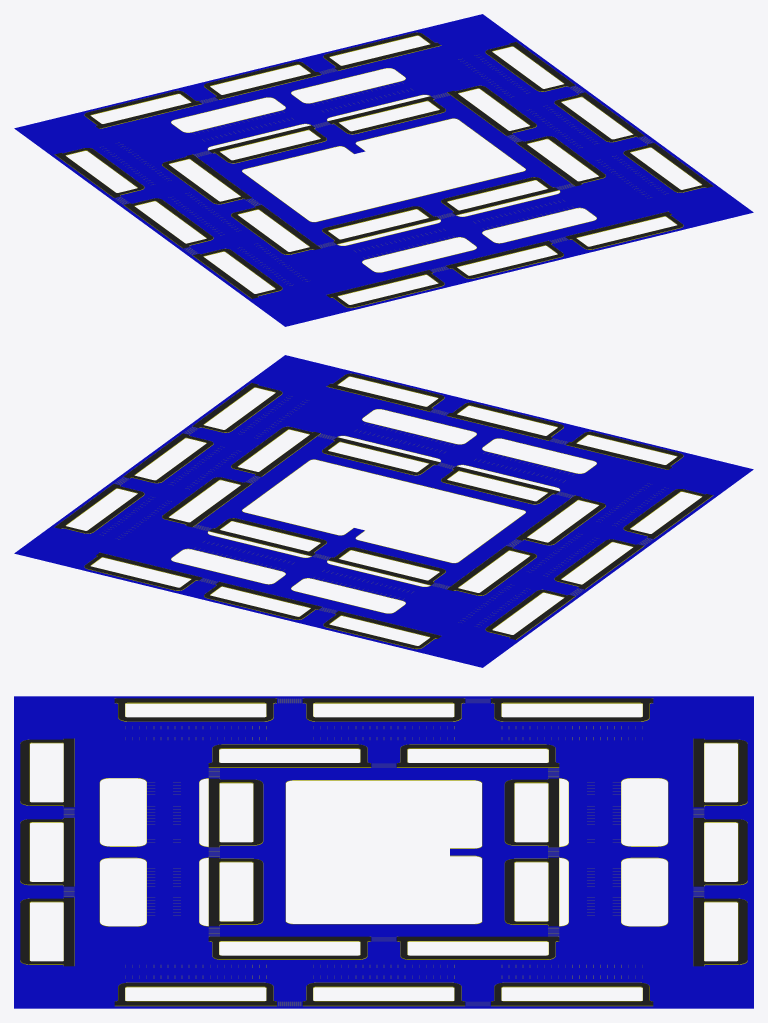
The picture shows the model from 3 angles, top to bottom: view 1: azimuth 30°, elevation 25°; view 2: azimuth 150°, elevation 25°; view 3: azimuth 270°, elevation 25°; orthographic projection. The views are drawn at different scales.
Parts seen in each view (by area): view 1: Okrujenie_for_house_chastnay_v2; view 2: Okrujenie_for_house_chastnay_v2; view 3: Okrujenie_for_house_chastnay_v2.
Part boxes in pixels (box(x1,y1,x2,y2)): Okrujenie_for_house_chastnay_v2: box(14, 14, 753, 326); Okrujenie_for_house_chastnay_v2: box(14, 355, 753, 667); Okrujenie_for_house_chastnay_v2: box(14, 696, 753, 1008).
Size of the model in its own units: 19151 by 16.22 by 19194.
